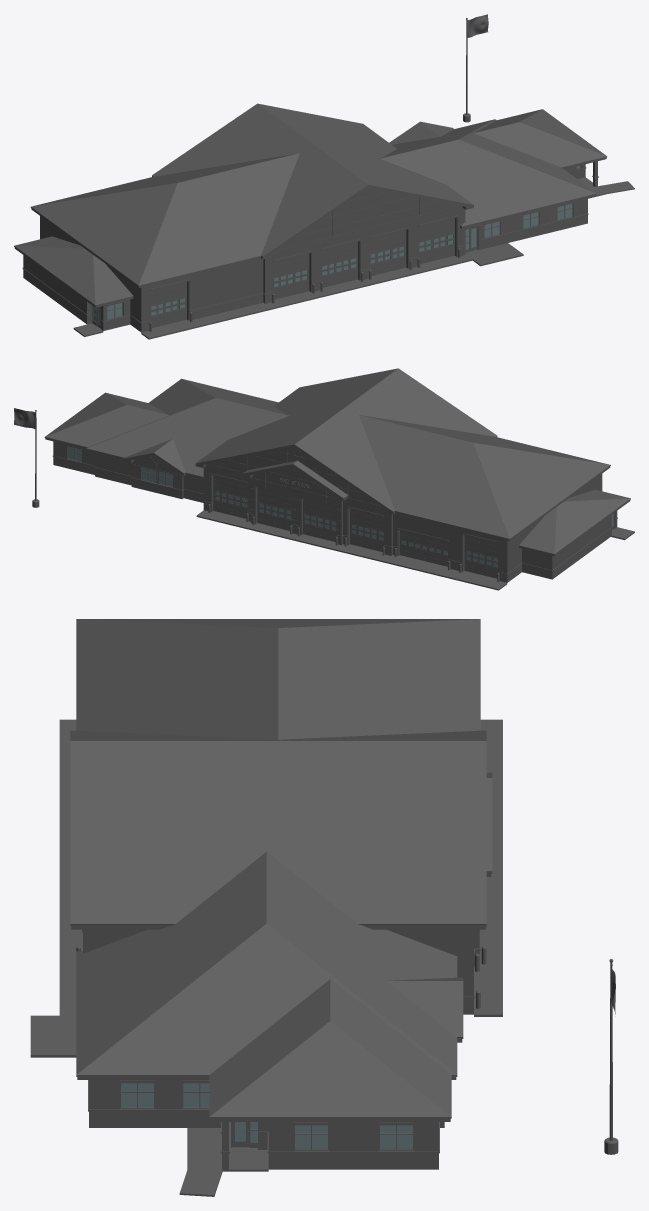
Rendered from FireStation.FBX.
3 renders of one model, top to bottom at view 1: azimuth 30°, elevation 25°; view 2: azimuth 150°, elevation 25°; view 3: azimuth 270°, elevation 25°, orthographic. The views are drawn at different scales.
Visible parts, largest first — view 1: Shingles-South, Shingles-West, Layer:Face Brick, Shingles-East, Layer:Garage Doors, Apron.01, Layer:Dryvit, Shingles-North, Layer:Stone Base, Layer:Glass, Layer:Fascia-1, Layer:fascia-2 (+4 smaller); view 2: Shingles-North, Shingles-West, Shingles-East, Layer:Garage Doors, Layer:Face Brick, Layer:Dryvit, Apron.01, Shingles-South, Layer:Stone Base, Layer:Fascia-1, Layer:Glass, Layer:fascia-2 (+4 smaller); view 3: Shingles-East, Shingles-South, Shingles-North, Apron.01, Layer:Face Brick, Layer:Stone Base, Shingles-West, Layer:Glass, Layer:Fascia-1, Layer:fascia-2, Layer:Stone Cap, Layer:Frames.
Part boxes in pixels (bbox=[...]): Shingles-South: bbox=[93, 122, 606, 305]; Shingles-West: bbox=[14, 103, 440, 304]; Layer:Face Brick: bbox=[23, 161, 597, 322]; Shingles-East: bbox=[258, 103, 606, 204]; Layer:Garage Doors: bbox=[150, 218, 454, 327]; Apron.01: bbox=[73, 177, 634, 339]; Layer:Dryvit: bbox=[277, 188, 459, 249]; Shingles-North: bbox=[15, 109, 541, 249]; Layer:Stone Base: bbox=[23, 168, 587, 332]; Layer:Glass: bbox=[93, 165, 580, 325]; Layer:Fascia-1: bbox=[14, 157, 606, 307]; Layer:fascia-2: bbox=[14, 156, 607, 306]; Shingles-North: bbox=[45, 398, 556, 553]; Shingles-West: bbox=[154, 368, 630, 553]; Shingles-East: bbox=[45, 368, 397, 473]; Layer:Garage Doors: bbox=[213, 475, 498, 578]; Layer:Face Brick: bbox=[53, 441, 617, 573]; Layer:Dryvit: bbox=[131, 447, 379, 535]; Apron.01: bbox=[196, 510, 634, 590]; Shingles-South: bbox=[106, 379, 629, 501]; Layer:Stone Base: bbox=[53, 457, 617, 582]; Layer:Fascia-1: bbox=[45, 438, 630, 556]; Layer:Glass: bbox=[68, 446, 613, 566]; Layer:fascia-2: bbox=[44, 436, 630, 554]; Shingles-East: bbox=[70, 741, 492, 1116]; Shingles-South: bbox=[76, 619, 330, 1116]; Shingles-North: bbox=[266, 619, 480, 1116]; Apron.01: bbox=[30, 719, 502, 1196]; Layer:Face Brick: bbox=[83, 929, 473, 1169]; Layer:Stone Base: bbox=[89, 951, 479, 1169]; Shingles-West: bbox=[70, 619, 492, 980]; Layer:Glass: bbox=[121, 1083, 412, 1149]; Layer:Fascia-1: bbox=[71, 873, 491, 1121]; Layer:fascia-2: bbox=[70, 871, 492, 1118]; Layer:Stone Cap: bbox=[82, 944, 480, 1153]; Layer:Frames: bbox=[120, 1083, 413, 1150].
Bounding box in the file's own units: 2520 × 438 × 1209.
